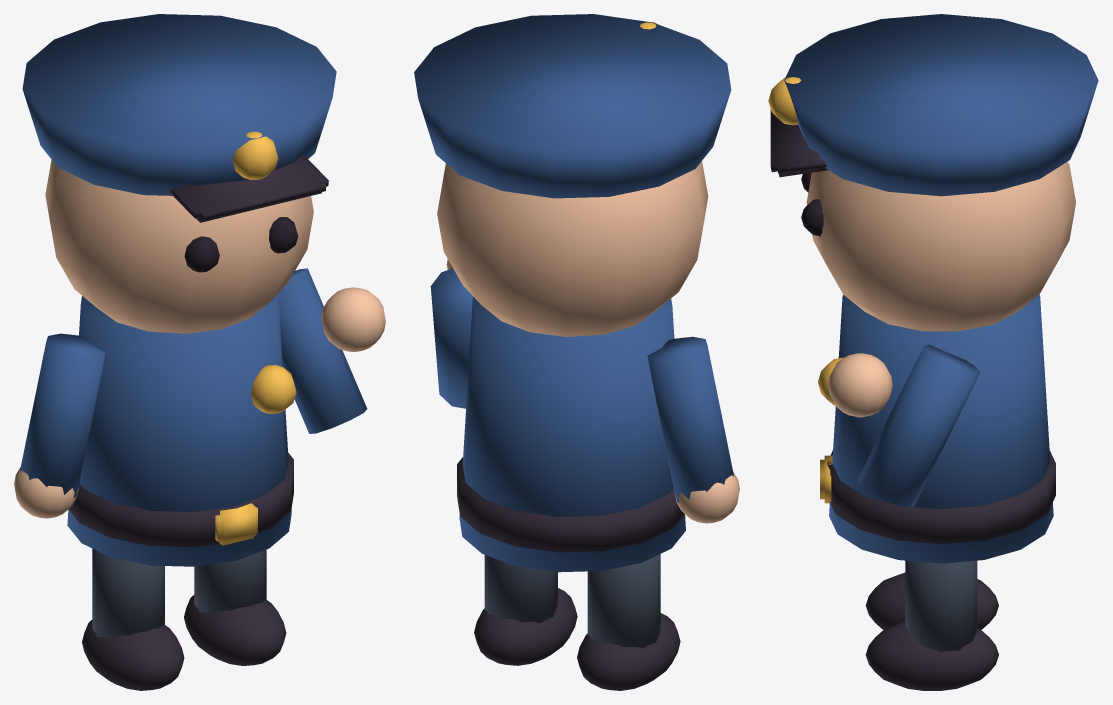
Rendered from Char_PoliceOfficer.fbx.
The picture shows the model from 3 angles, left to right: view 1: azimuth 30°, elevation 25°; view 2: azimuth 150°, elevation 25°; view 3: azimuth 270°, elevation 25°; orthographic projection.
Visible parts, largest first — view 1: Char_PoliceOfficer; view 2: Char_PoliceOfficer; view 3: Char_PoliceOfficer.
Part boxes in pixels (box(x1,y1,x2,y2)): Char_PoliceOfficer: box(14, 14, 385, 690); Char_PoliceOfficer: box(414, 14, 739, 690); Char_PoliceOfficer: box(768, 14, 1098, 690).
Bounding box in the file's own units: 0.8204 × 1.43 × 0.735.
